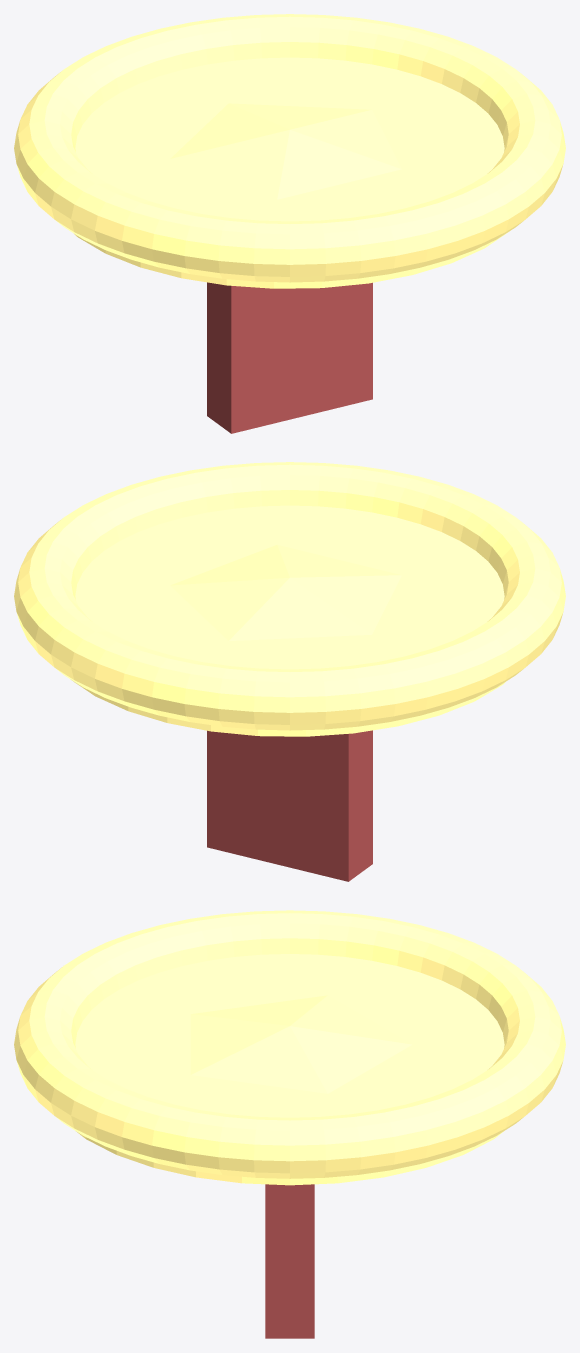
The model's file is badge_gold.glb.
3 views of the same model, one above another, from view 1: azimuth 30°, elevation 25°; view 2: azimuth 150°, elevation 25°; view 3: azimuth 270°, elevation 25° (orthographic).
Visible parts, largest first — view 1: Torus.007, Cylinder, Cube, Cone; view 2: Torus.007, Cylinder, Cube, Cone; view 3: Torus.007, Cylinder, Cone, Cube.
Part boxes in pixels (<box>): Torus.007: <box>14,14,565,282</box>; Cylinder: <box>74,57,507,288</box>; Cube: <box>207,282,372,433</box>; Cone: <box>170,103,401,199</box>; Torus.007: <box>14,462,565,730</box>; Cylinder: <box>72,505,505,736</box>; Cube: <box>207,730,372,881</box>; Cone: <box>170,544,401,640</box>; Torus.007: <box>14,910,565,1178</box>; Cylinder: <box>75,954,504,1185</box>; Cone: <box>190,995,412,1093</box>; Cube: <box>265,1184,314,1338</box>.
Bounding box in the file's own units: 0.27 × 0.155 × 0.27.
